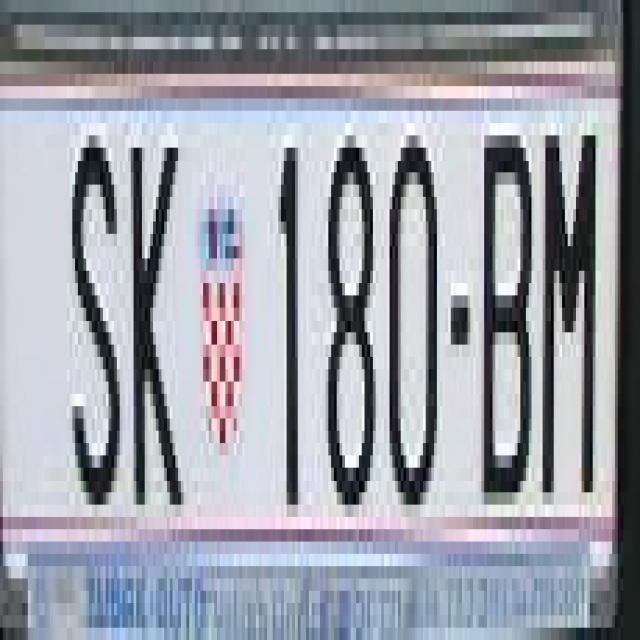0: (387, 135, 434, 492)
1: (275, 123, 298, 505)
8: (323, 148, 373, 517)
B: (478, 135, 528, 492)
K: (131, 111, 175, 517)
M: (540, 111, 595, 480)
S: (67, 135, 122, 492)
